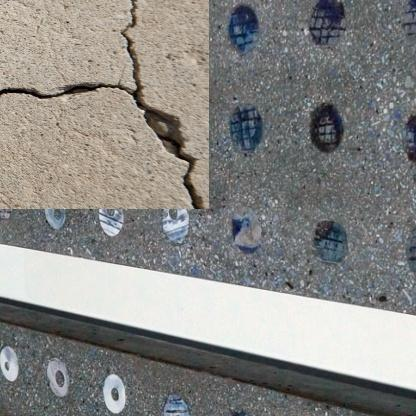Cracks: (0, 0, 190, 193)
